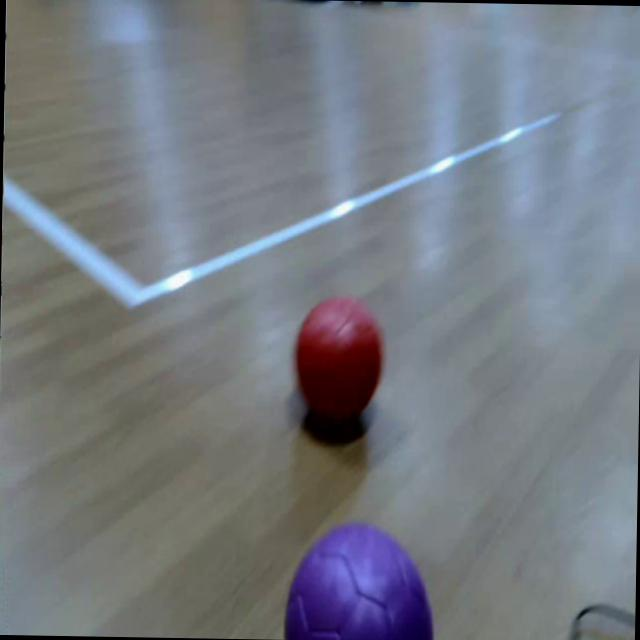purple_ball: (280, 521, 437, 640)
red_ball: (288, 294, 387, 431)
